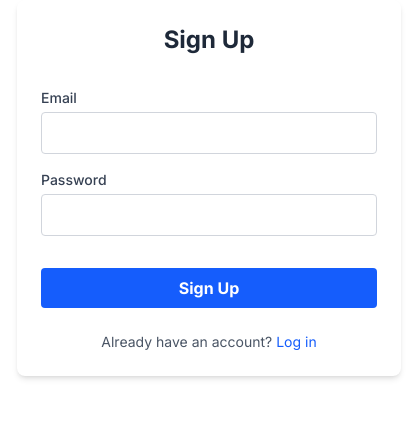
auth flow › shows an error for duplicate signup email
This screenshot has width=419, height=433.
Type "existing@hng.tech" into the field with test id "auth-signup-email" at (209, 133), box [41,112,377,154]
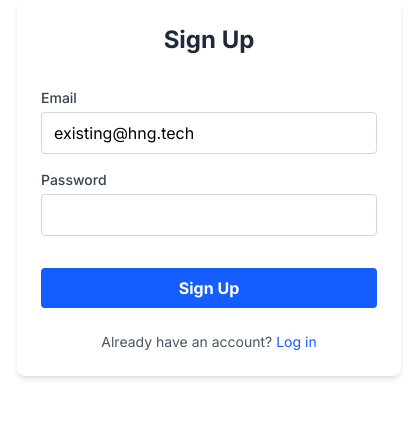
Type "password123" into the password field with test id "auth-signup-password" at (209, 215), box [41,194,377,236]
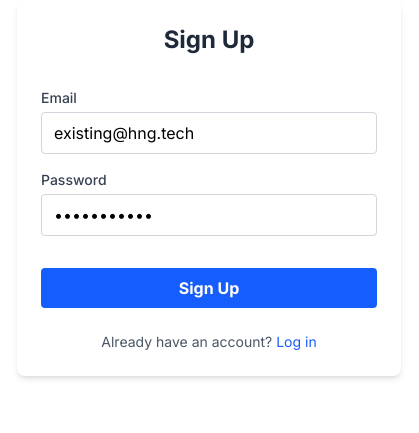
Click the button with test id "auth-signup-submit" at (209, 288), box [41,268,377,308]
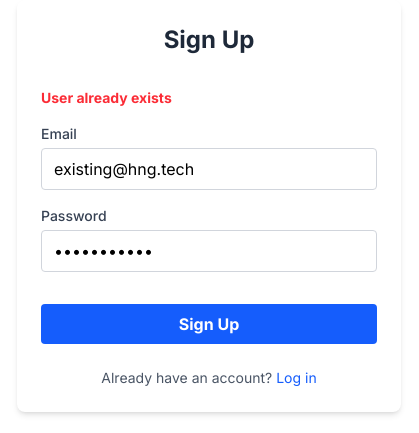
Expected: the text "User already exists" is shown, [41,89,172,106]
